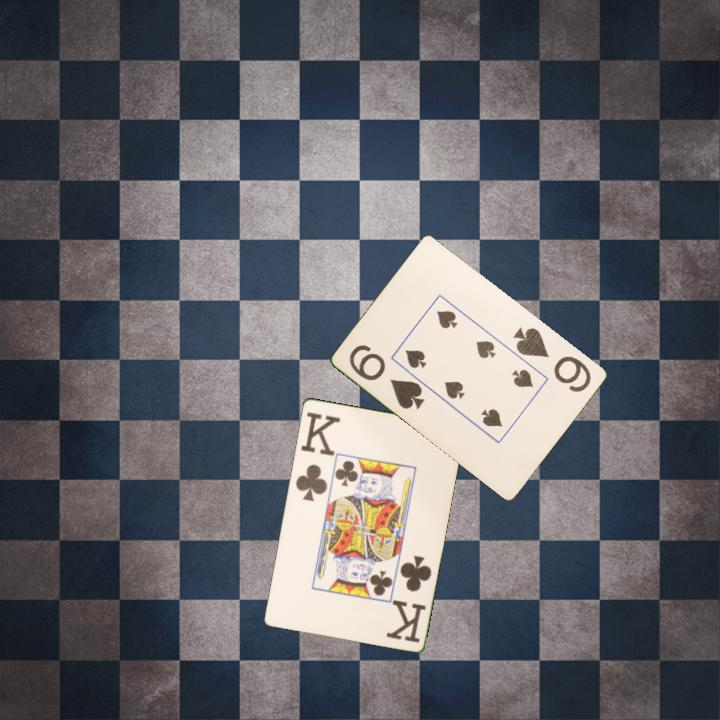6s: (510, 324, 595, 395), (346, 341, 428, 413)
Kc: (292, 408, 342, 504), (384, 551, 434, 645)
